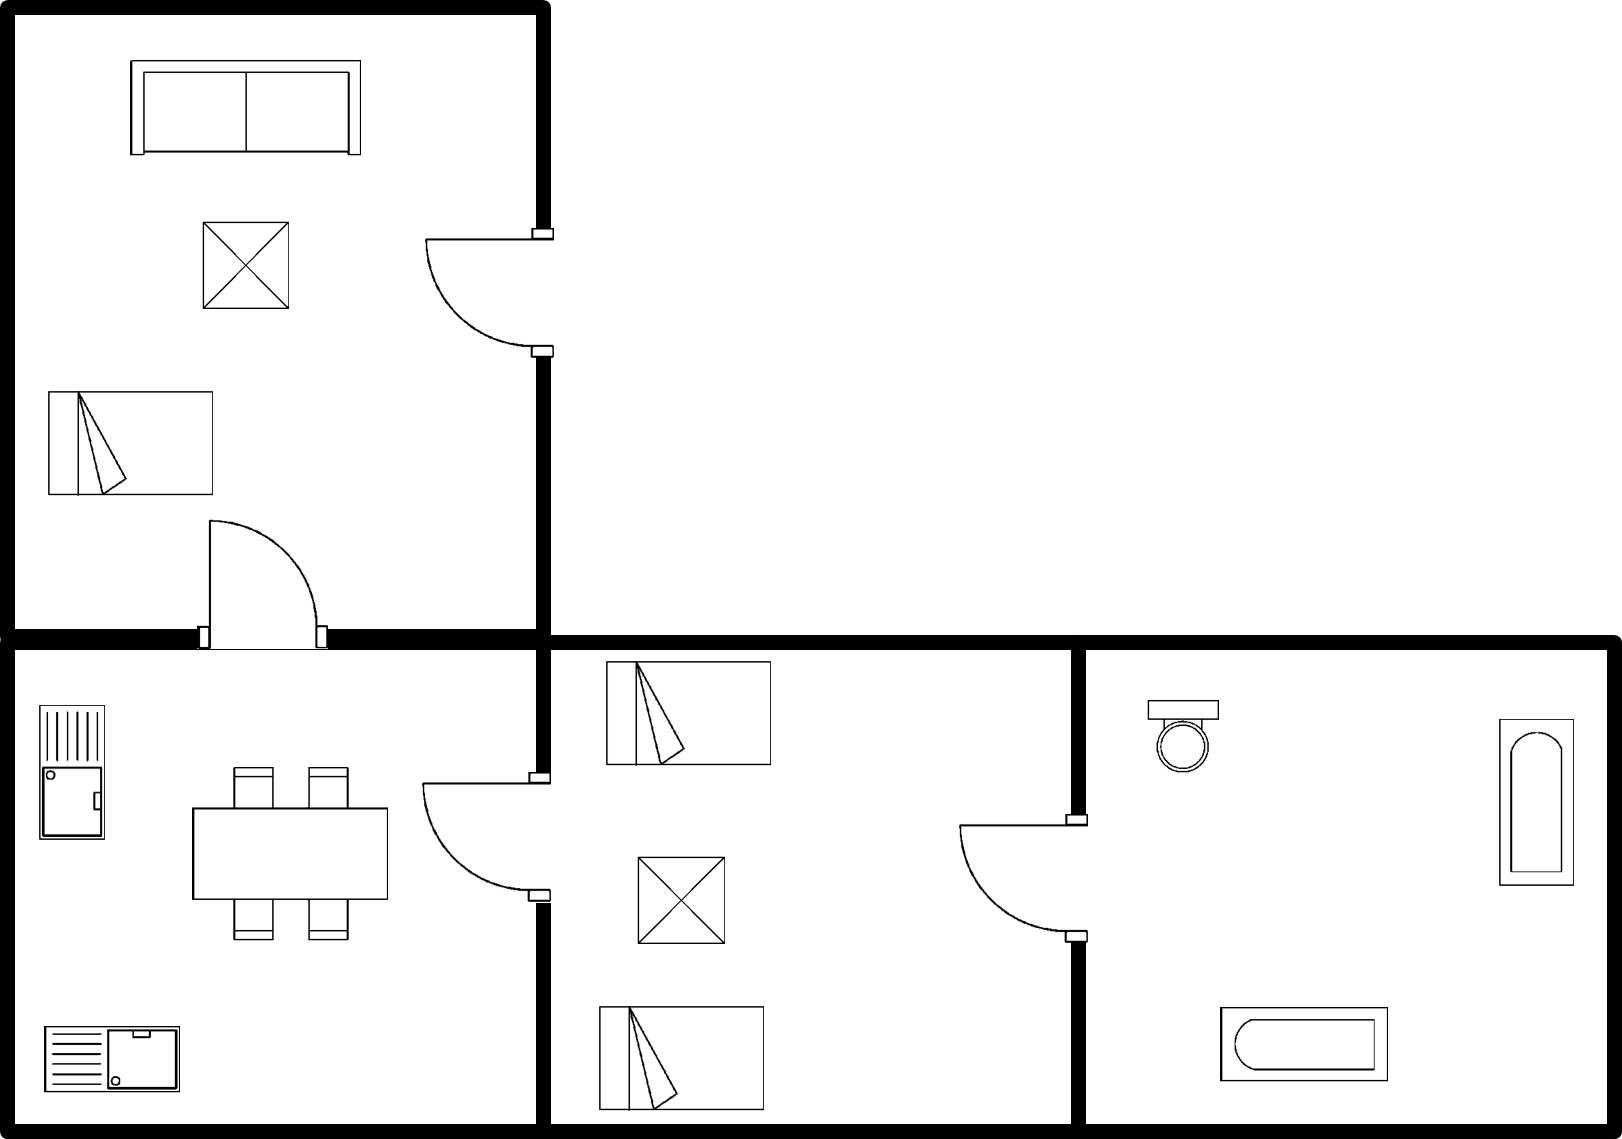bed: (598, 654, 783, 774), (39, 381, 221, 502), (590, 998, 776, 1115)
coffee_table: (626, 847, 736, 955), (196, 215, 296, 316)
dining_table: (181, 758, 399, 951)
large_sink: (1135, 690, 1224, 782)
large_sofa: (122, 52, 366, 166)
sink: (37, 1015, 193, 1101), (31, 699, 114, 847)
tub: (1211, 999, 1399, 1092), (1491, 712, 1585, 894)
